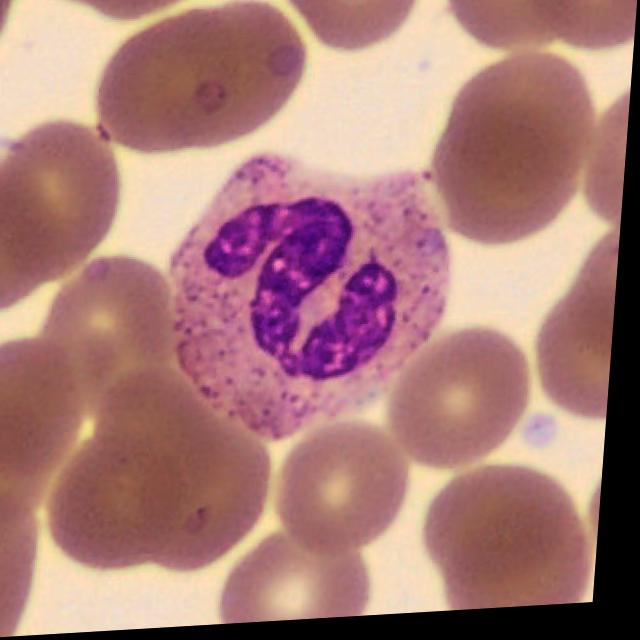Neutrofilo segmentado: (173, 159, 454, 446)
